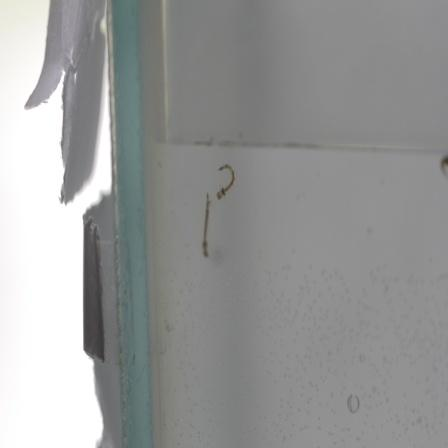Jentik-Nyamuk: (198, 187, 213, 261), (214, 161, 237, 204)
